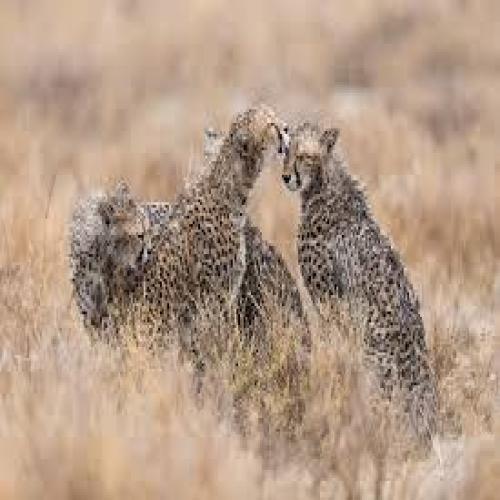cheetah-endangered: (282, 120, 438, 460), (68, 182, 308, 372), (127, 100, 291, 349)
